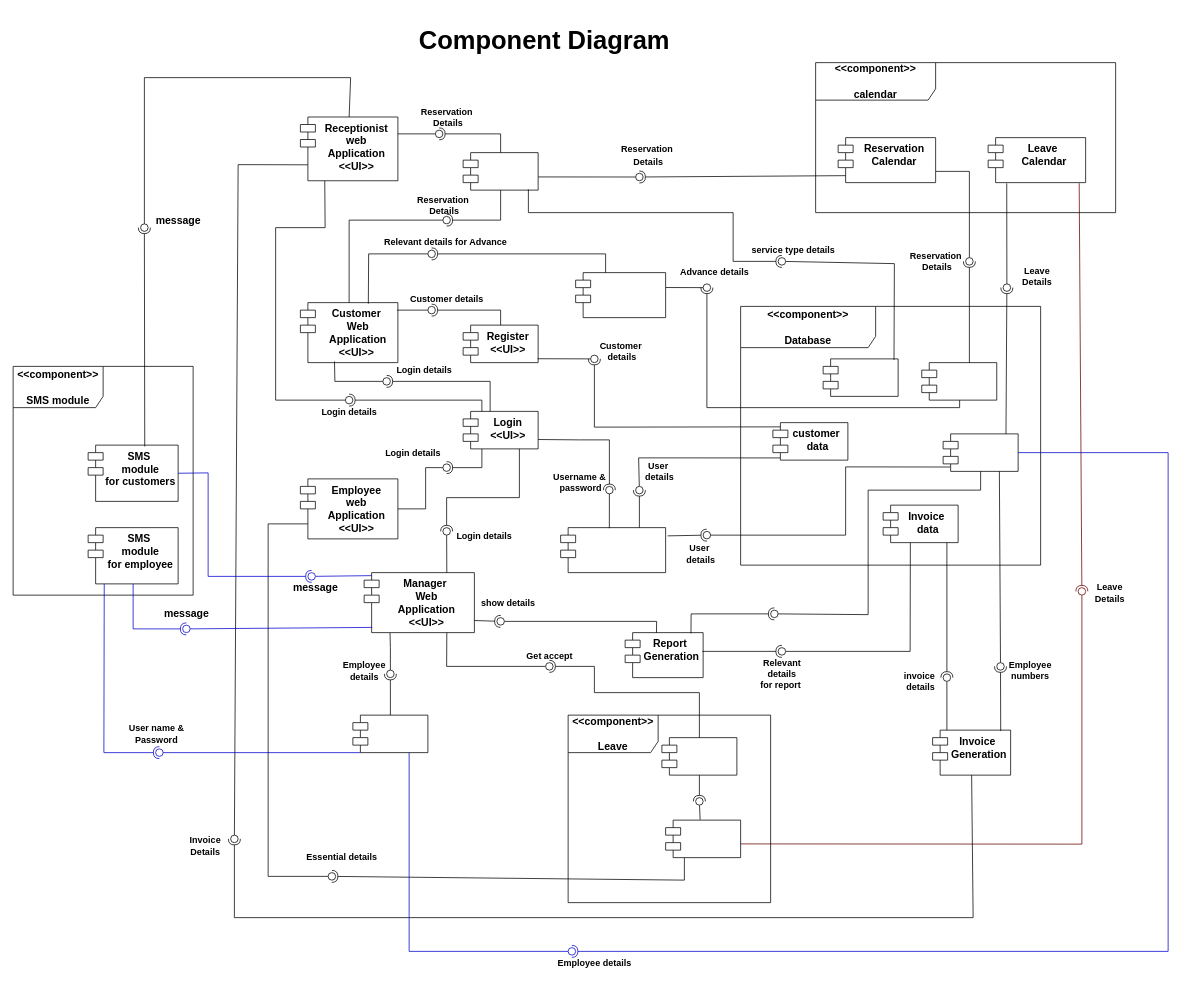
The diagram is 1187 pixels wide and 983 high, and some of its shapes have lost their labels. Here are the shapes that lost their labels. From the top down, the centre of each, then its label:
At point 500,171: "Booking".
At point 620,295: "Online Advance Payment".
At point 860,377: "service data".
At point 959,381: "Reservation data".
At point 980,452: "Employee data".
At point 613,550: "Authentication".
At point 390,733: "Add Employee".
At point 699,756: "Accept Leaves".
At point 703,838: "Request Leaves".
